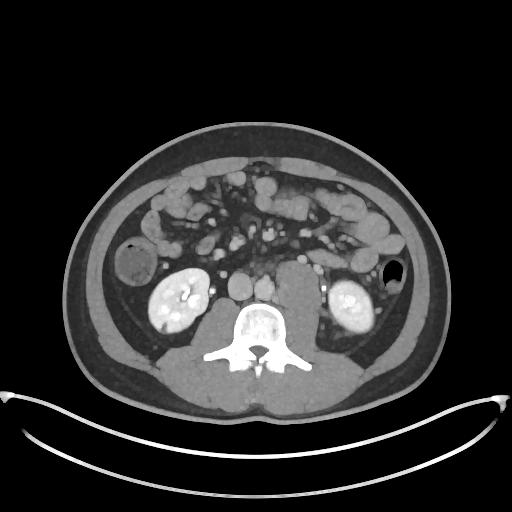Lesion: (274, 259, 323, 315), (156, 321, 171, 334)
